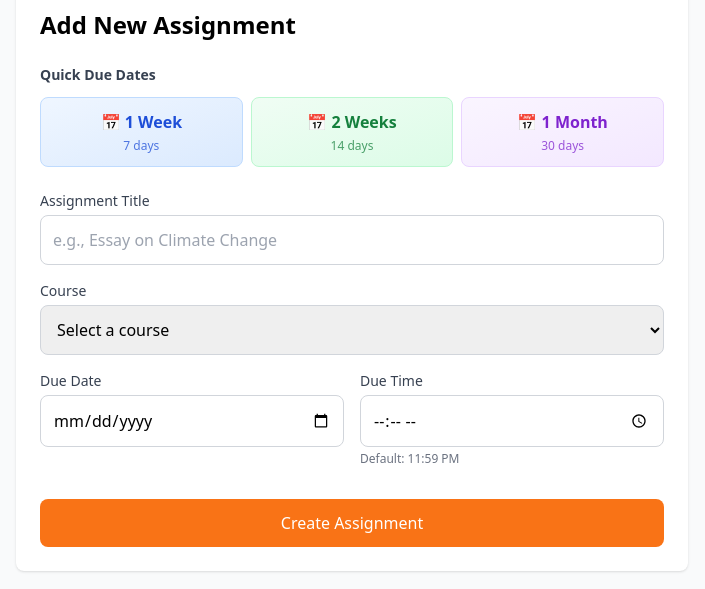
Test: AddAssignmentComponent › Quick Due Date Buttons › sets due date and time when 1 Month button is clicked
The image size is (705, 589).
Click the button "📅 1 Month 30 days" at {"x": 563, "y": 132}, box x1=461 y1=97 x2=664 y2=167
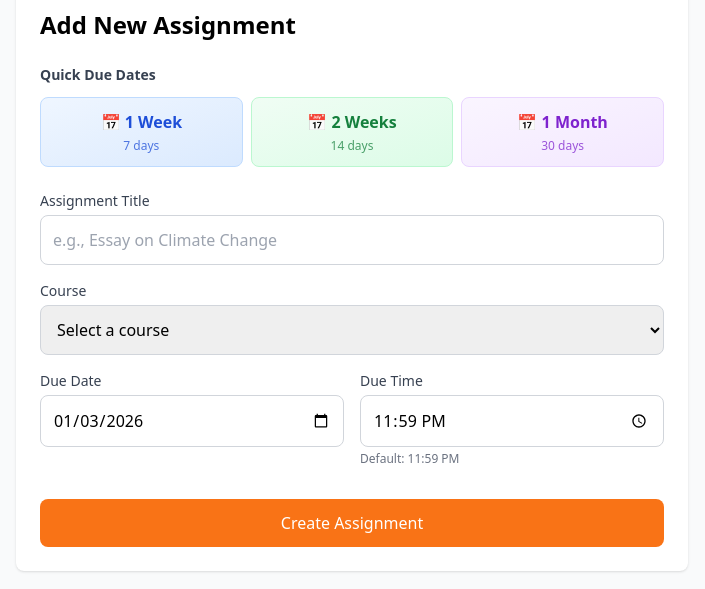
Expected: the time field showing "23:59" is shown, x1=360 y1=395 x2=664 y2=447
